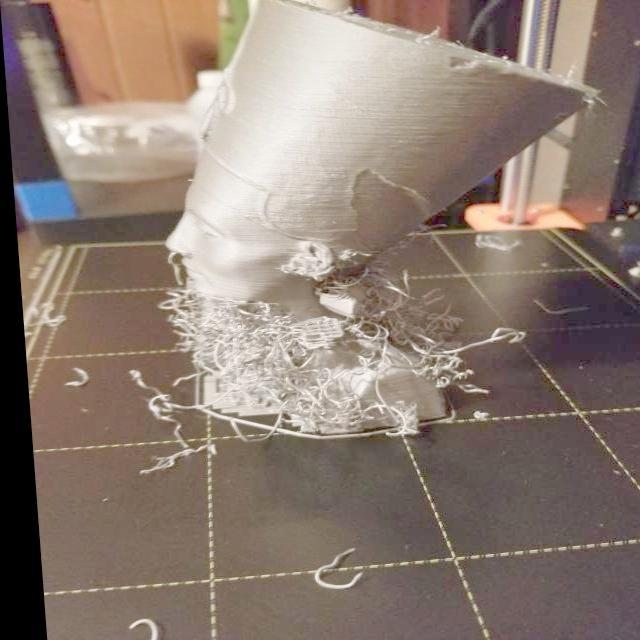spaghetti: (82, 260, 518, 461)
